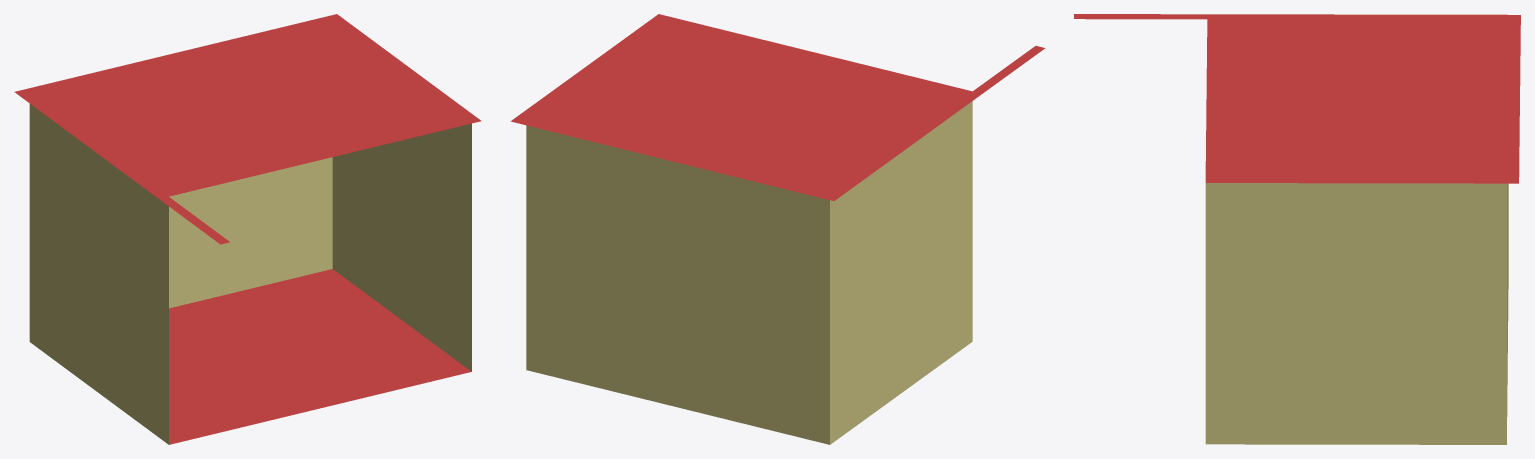
The picture shows the model from 3 angles, left to right: view 1: azimuth 30°, elevation 25°; view 2: azimuth 150°, elevation 25°; view 3: azimuth 270°, elevation 25°; orthographic projection. The views are drawn at different scales.
Size of the model in its own units: 8.14 by 9.07 by 5.97.
